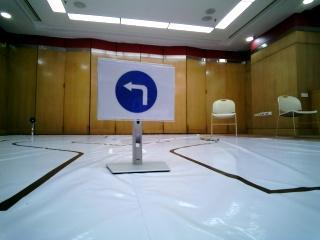left: (103, 61, 169, 120)
